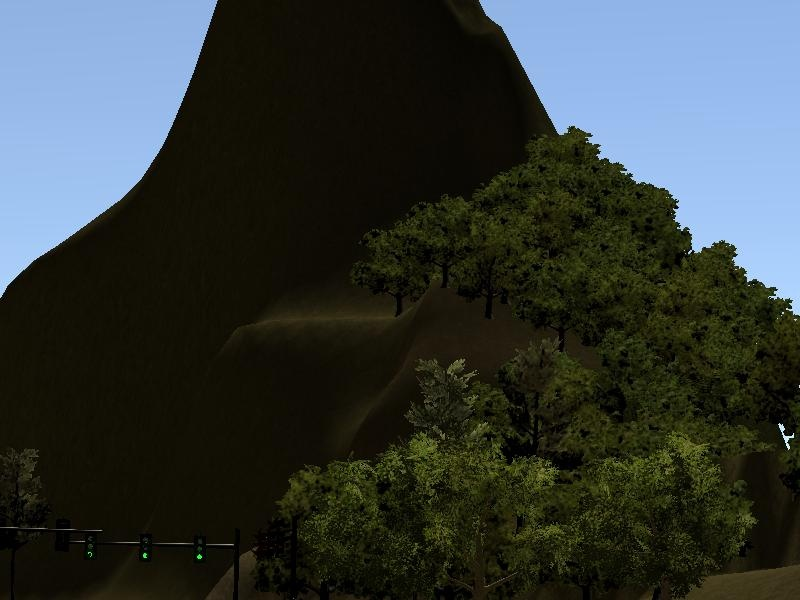GREEN: (190, 525, 211, 567), (135, 525, 157, 565)
